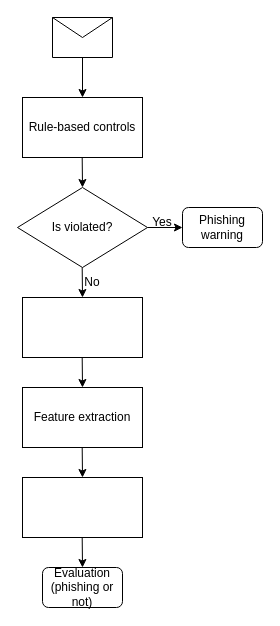
Image size: 280x626. Some labels were removed from this diagram. The box of each missing label's shape, as (x1, y1, x2, y2) in pixels:
Classification with ML methods: (22, 476, 142, 538)
SMS preprocessing: (22, 296, 142, 358)
